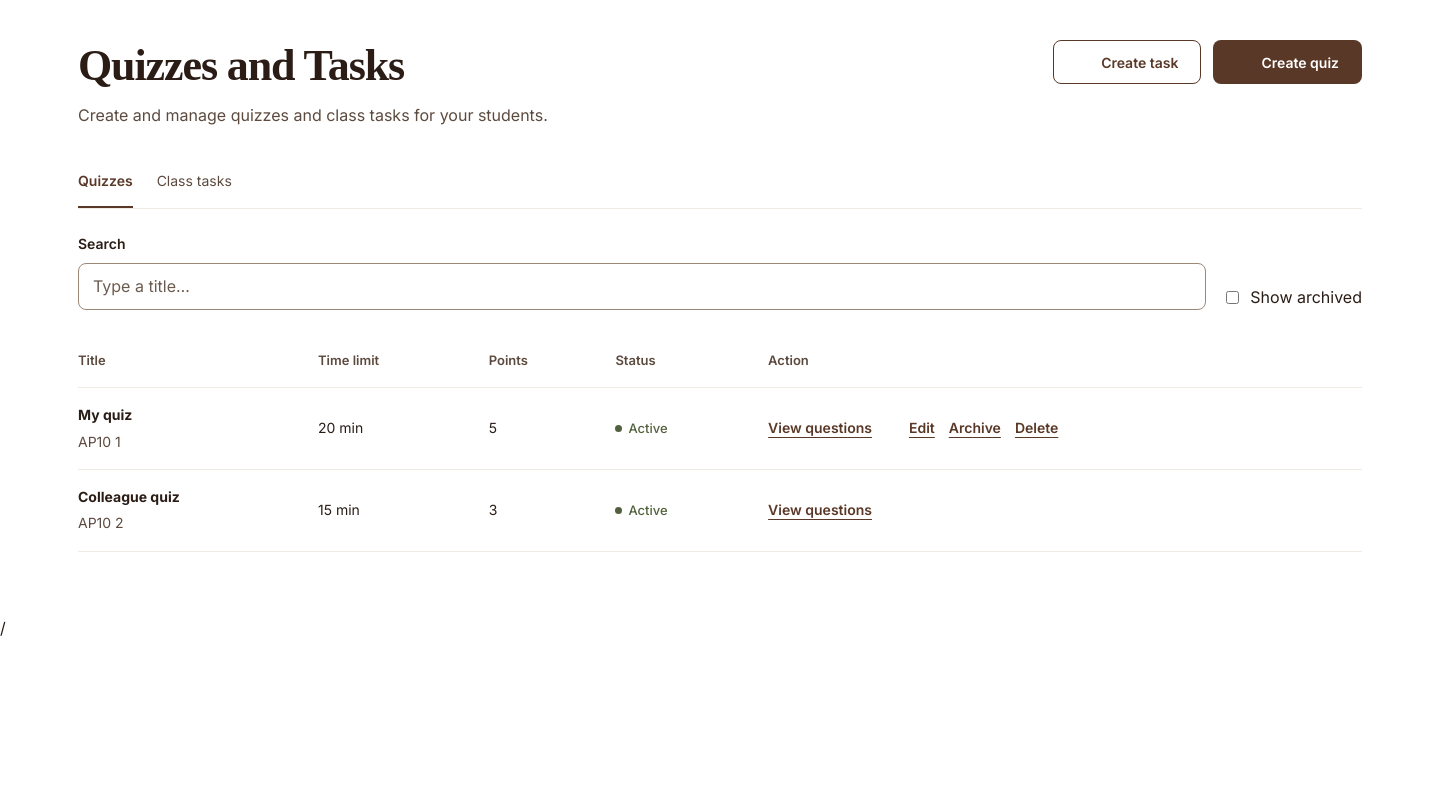
it: AssessmentsPage › offers "Archive instead" when a quiz has attempts
Expected: the text "My quiz" is shown, [78,406,132,423]
What coordinates should you click on to do the following:
click the button "Delete"
I would click on:
 (1037, 429)
Its box is [1015,407,1058,451].
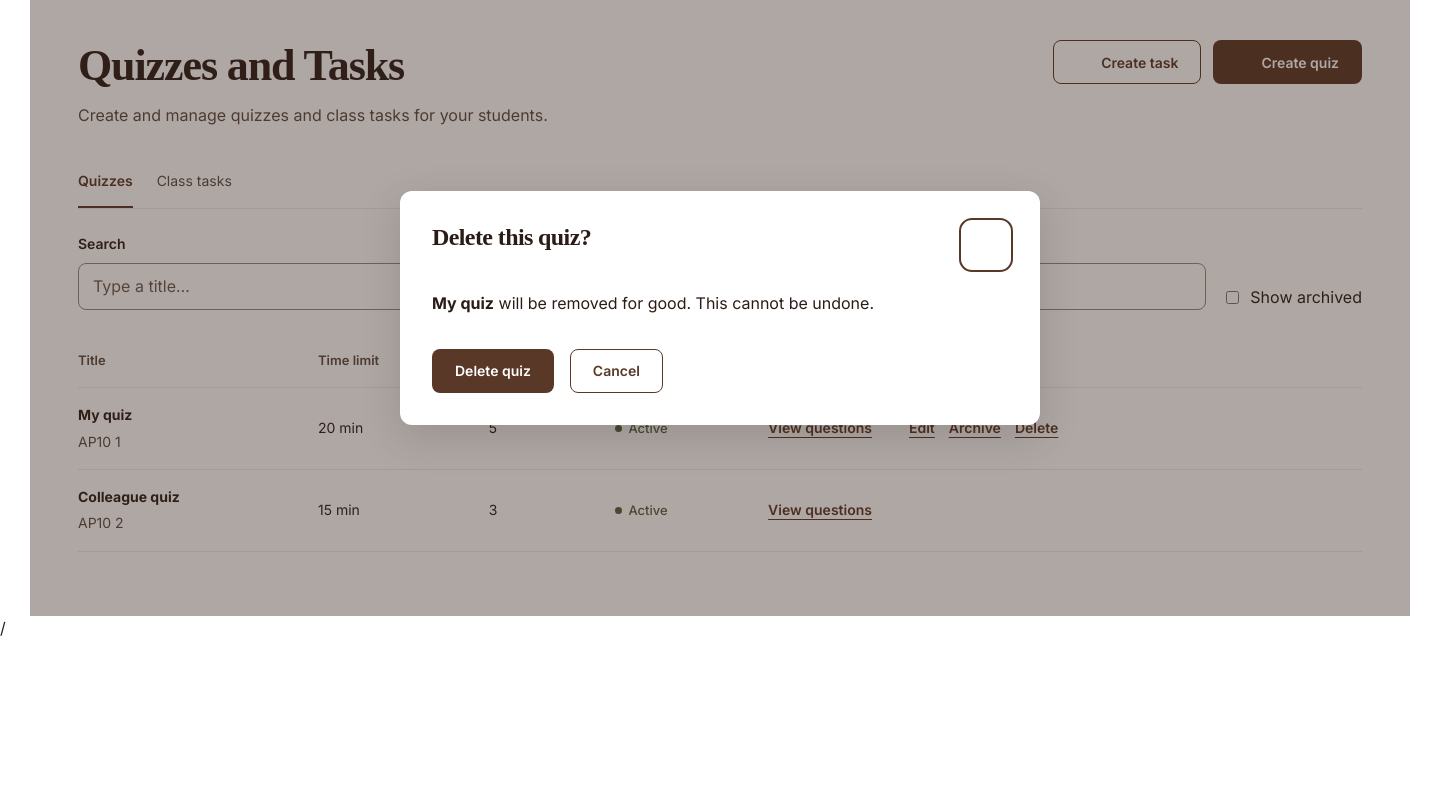
What coordinates should you click on to do the following:
click the button "Delete quiz"
I would click on:
 (493, 371)
Its box is [432,349,554,393].
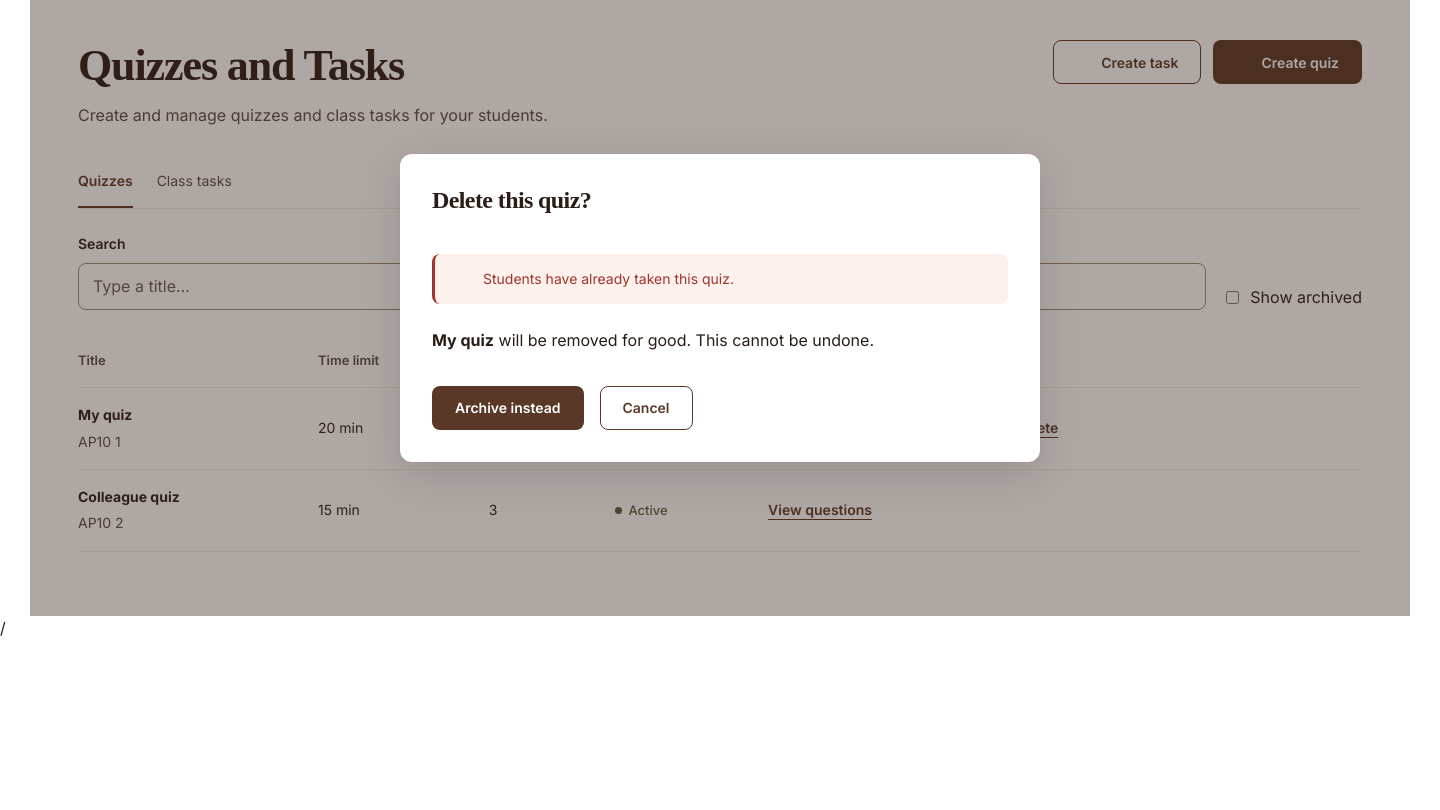
Expected: the text "Students have already taken this quiz." is shown, [483,268,734,290]
What coordinates should you click on to do the following:
click the button "Archive instead"
I would click on:
 (508, 408)
Its box is [432,386,584,430].
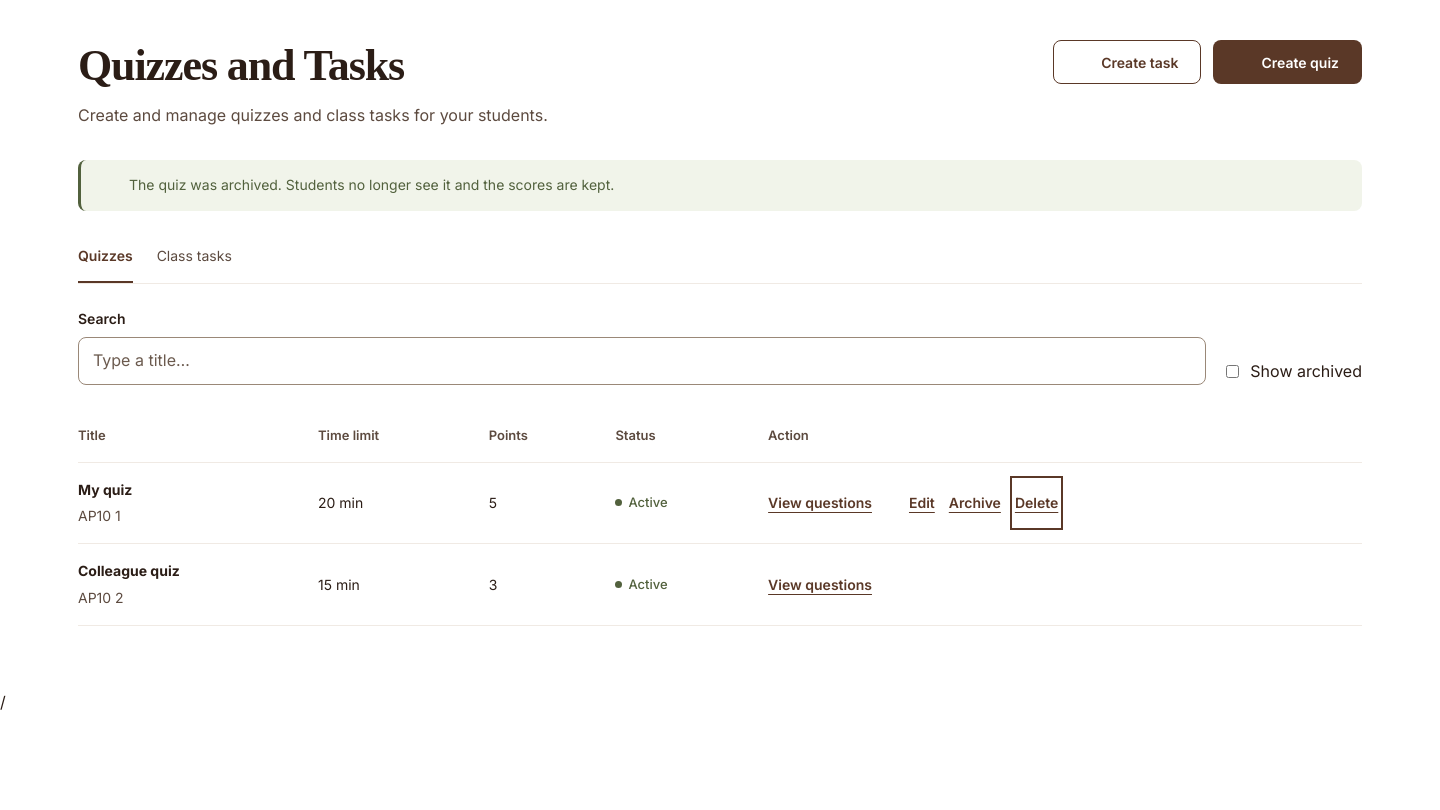
Expected: the text "The quiz was archived" is shown, [129,176,614,193]
